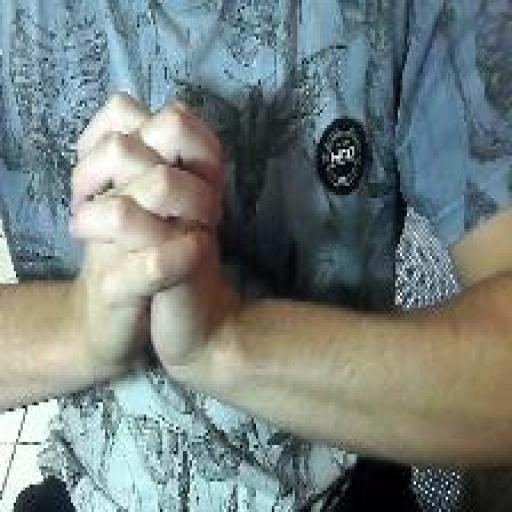Mi -snake-: (65, 87, 228, 404)
